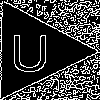U: (9, 25, 51, 72)
